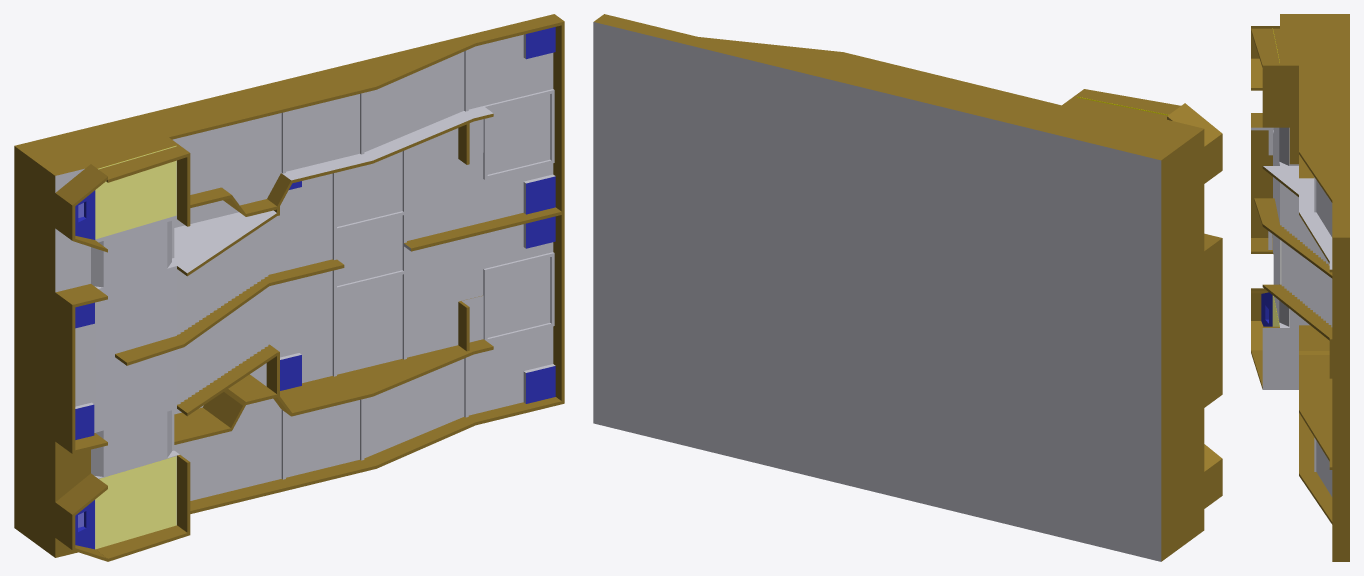
Rendered from arena_final.glb.
The picture shows the model from 3 angles, left to right: view 1: azimuth 30°, elevation 25°; view 2: azimuth 150°, elevation 25°; view 3: azimuth 270°, elevation 25°; orthographic projection. The views are drawn at different scales.
Parts seen in each view (by area): view 1: Solid1; view 2: Solid1; view 3: Solid1.
Boxes of the visible parts, bbox=[...] form: Solid1: bbox=[14, 14, 564, 561]; Solid1: bbox=[593, 14, 1222, 561]; Solid1: bbox=[1251, 14, 1349, 561].
Size of the model in its own units: 3.64 by 2.48 by 0.68.
